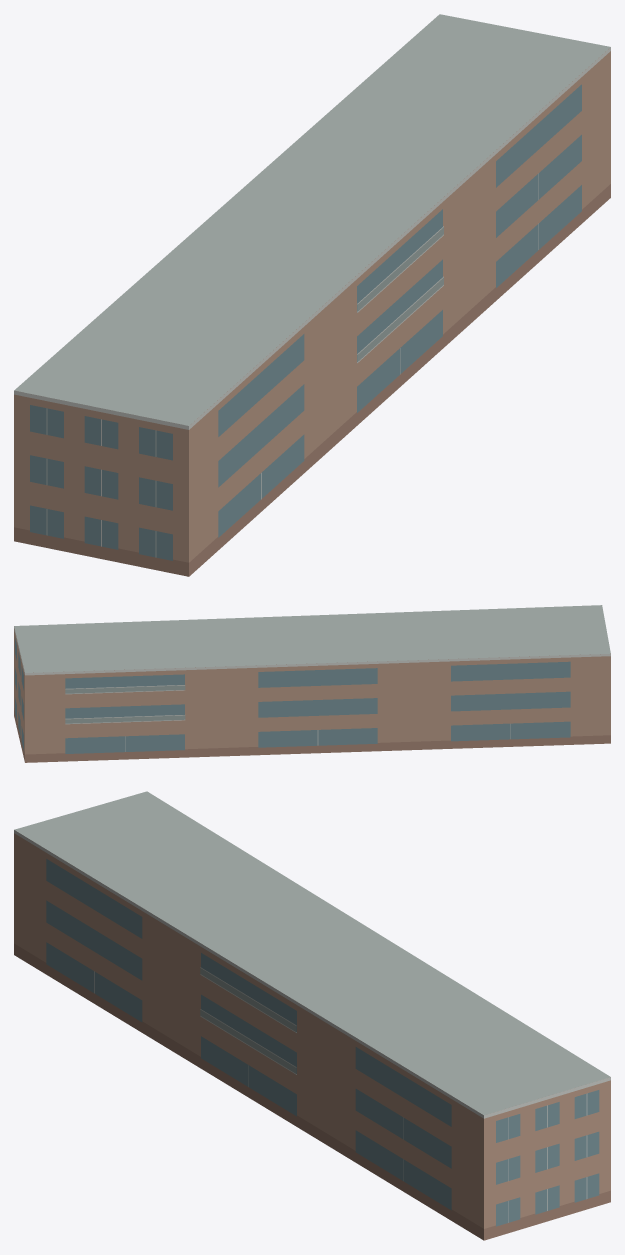
Rendered from survey-upis-32764194.glb.
3 views of the same model, one above another, from view 1: azimuth 30°, elevation 25°; view 2: azimuth 150°, elevation 25°; view 3: azimuth 270°, elevation 25° (orthographic). The views are drawn at different scales.
Parts seen in each view (by area): view 1: survey-upis-32764194.tmp; view 2: survey-upis-32764194.tmp; view 3: survey-upis-32764194.tmp.
Part boxes in pixels (box(x1,y1,x2,y2)): survey-upis-32764194.tmp: box(14, 14, 610, 576); survey-upis-32764194.tmp: box(14, 605, 610, 762); survey-upis-32764194.tmp: box(14, 791, 610, 1240).
Bounding box in the file's own units: 50.78 × 9.15 × 39.53.
